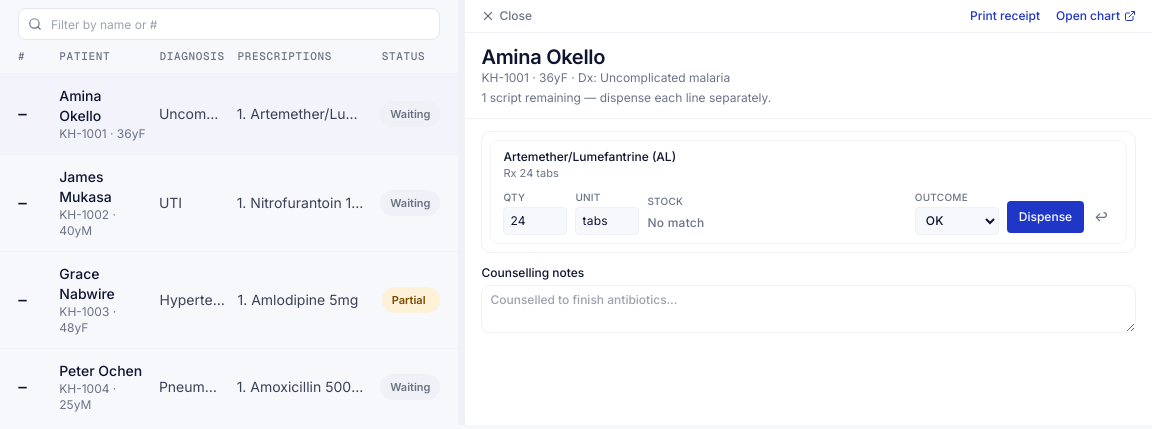
Scenario: PharmacyStationClient › removes the visit from "To dispense" when the dispense returns "partial"
Click the button with test id "save-complete". click: (1045, 216)
box: 1007,200 -> 1084,232
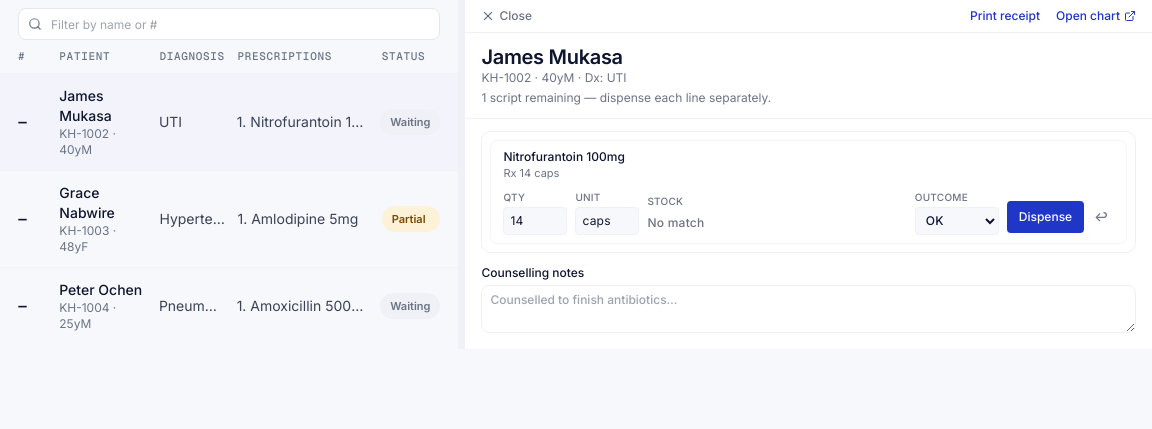
expect the button with test id "queue-row-visit-e2e-001" is gone: met
